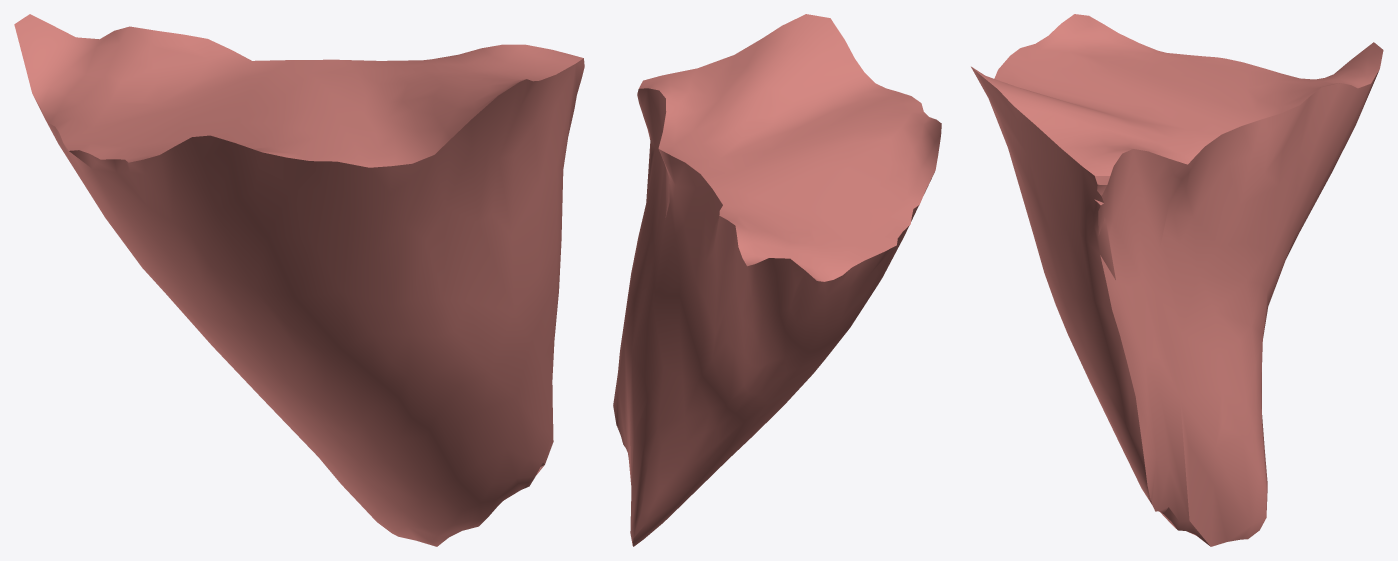
The model's file is fma299437_mm1782.glb.
3 views of the same model, side by side, from view 1: azimuth 30°, elevation 25°; view 2: azimuth 150°, elevation 25°; view 3: azimuth 270°, elevation 25° (orthographic). The views are drawn at different scales.
Parts seen in each view (by area): view 1: FMA299437_MM1782; view 2: FMA299437_MM1782; view 3: FMA299437_MM1782.
Boxes of the visible parts, box(x1,y1,x2,y2) form: FMA299437_MM1782: box(14, 14, 584, 546); FMA299437_MM1782: box(613, 14, 941, 546); FMA299437_MM1782: box(971, 14, 1383, 546).
Size of the model in its own units: 0.0205 by 0.027 by 0.0226.
